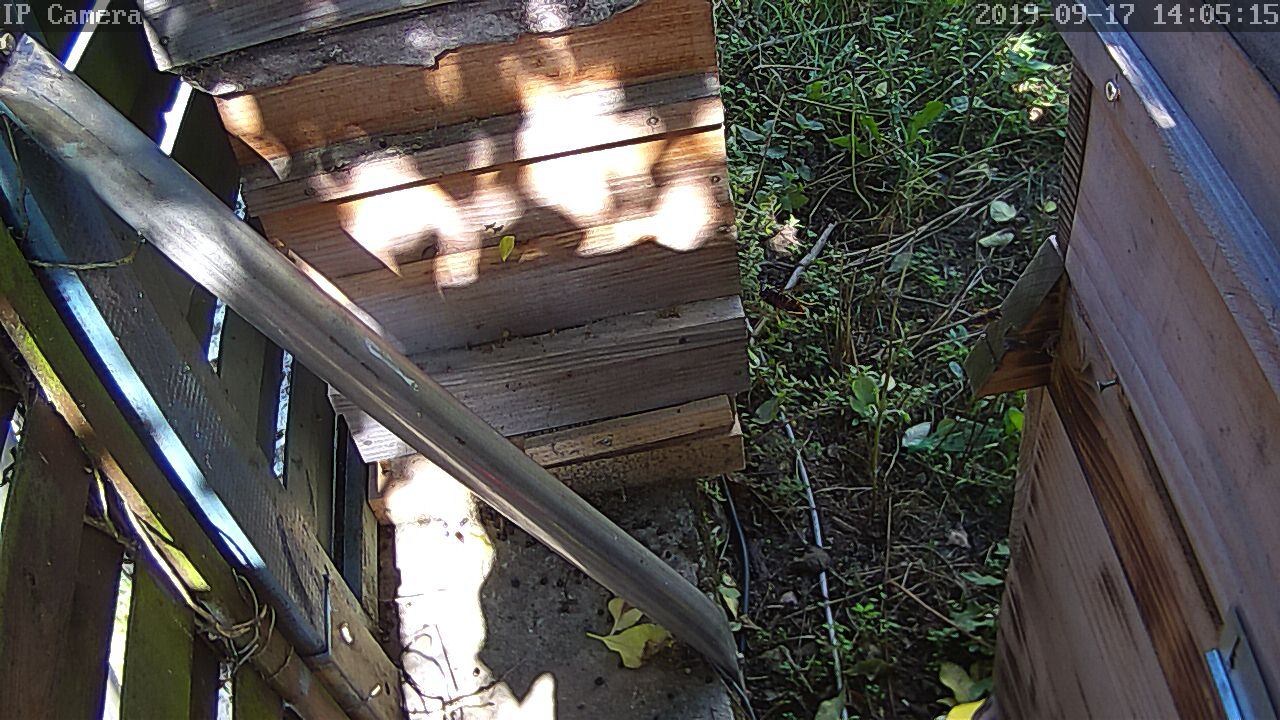hornet: (16, 14, 1243, 720)
